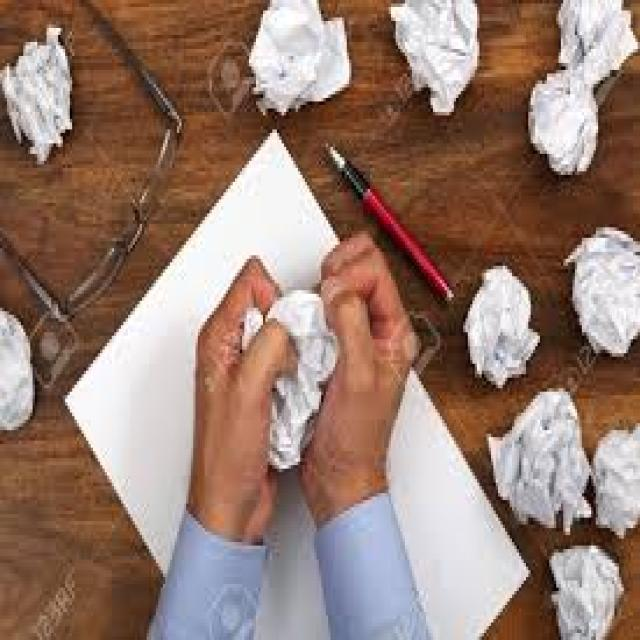Paper: (528, 0, 640, 178), (242, 290, 342, 472), (486, 388, 598, 539), (247, 0, 356, 118), (562, 221, 640, 357), (388, 0, 479, 115), (0, 20, 72, 164), (465, 266, 542, 392), (549, 545, 626, 640), (589, 427, 640, 546), (0, 307, 37, 434)
